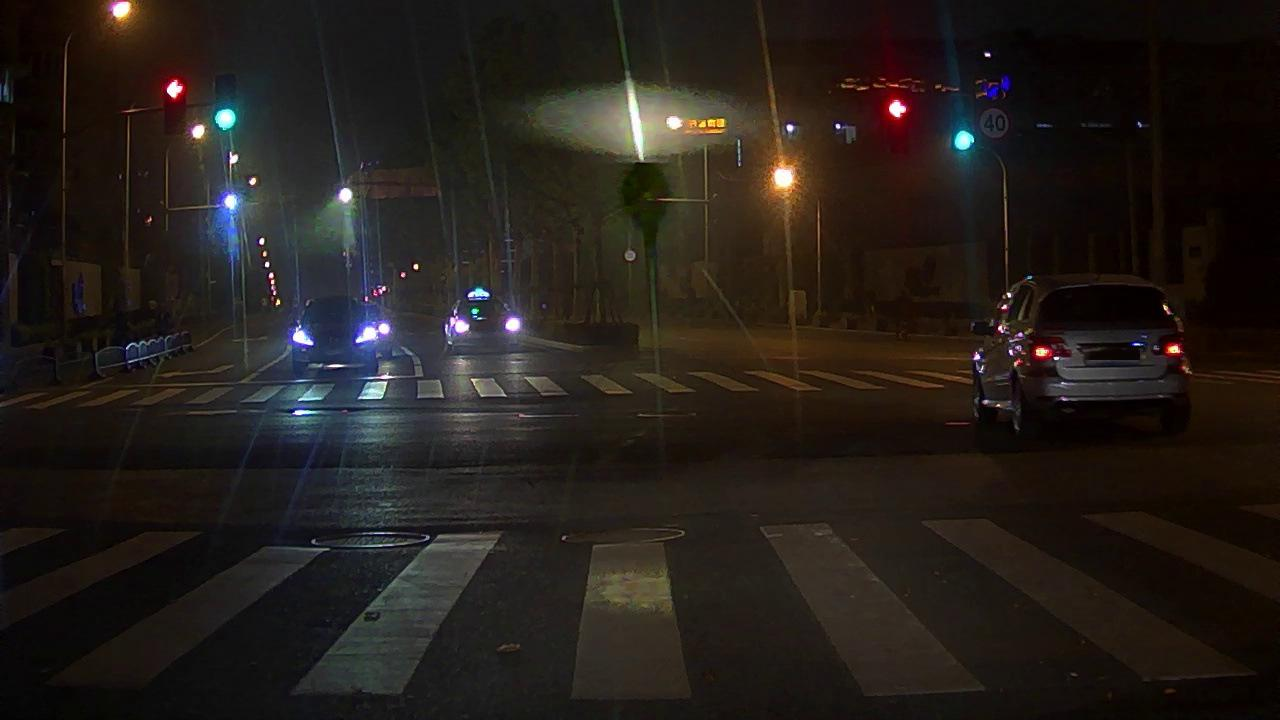traffic_light: (215, 75, 236, 133), (164, 80, 184, 132), (954, 109, 974, 158), (886, 97, 904, 151)
